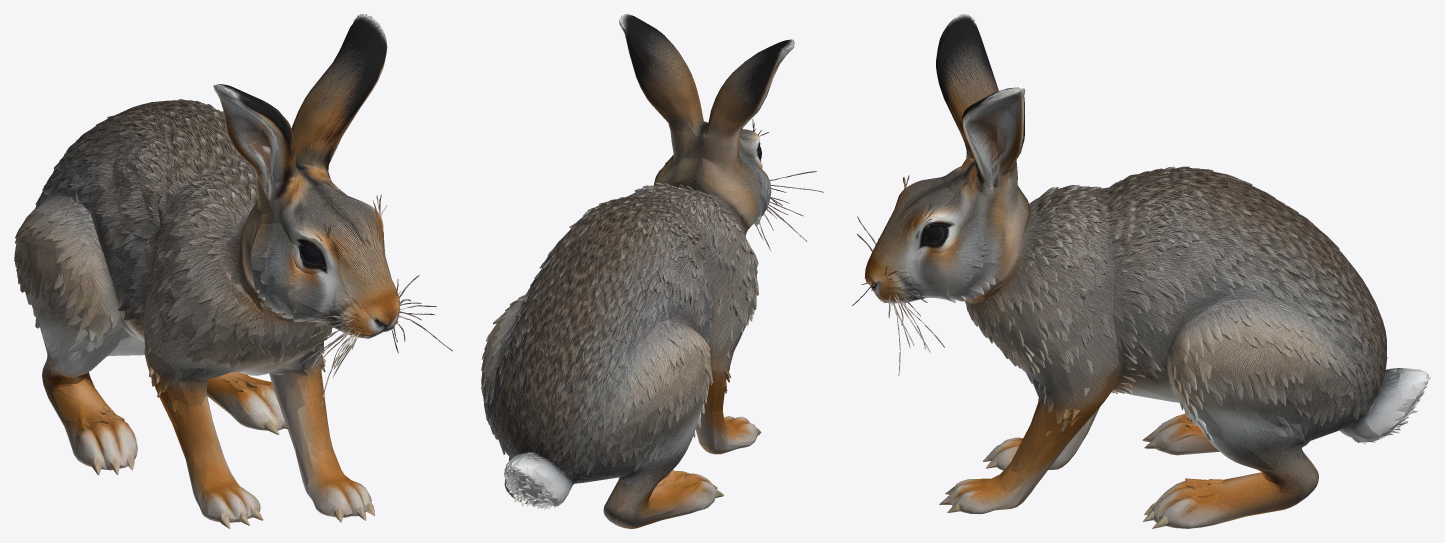
Rendered from snowshoe-hare.glb.
The picture shows the model from 3 angles, left to right: view 1: azimuth 30°, elevation 25°; view 2: azimuth 150°, elevation 25°; view 3: azimuth 270°, elevation 25°; orthographic projection. The views are drawn at different scales.
Size of the model in its own units: 0.836 by 1.58 by 1.9.
1 material, 1 textured.
